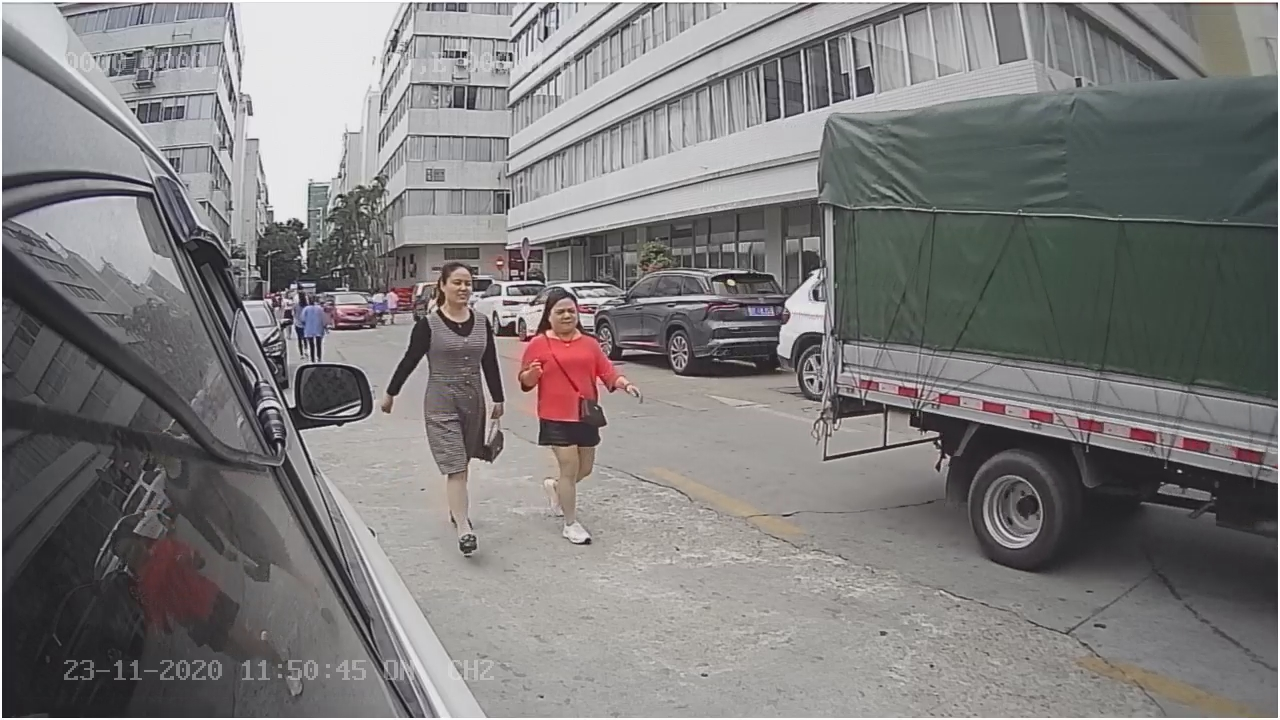person: (378, 254, 506, 563), (519, 276, 642, 546)
